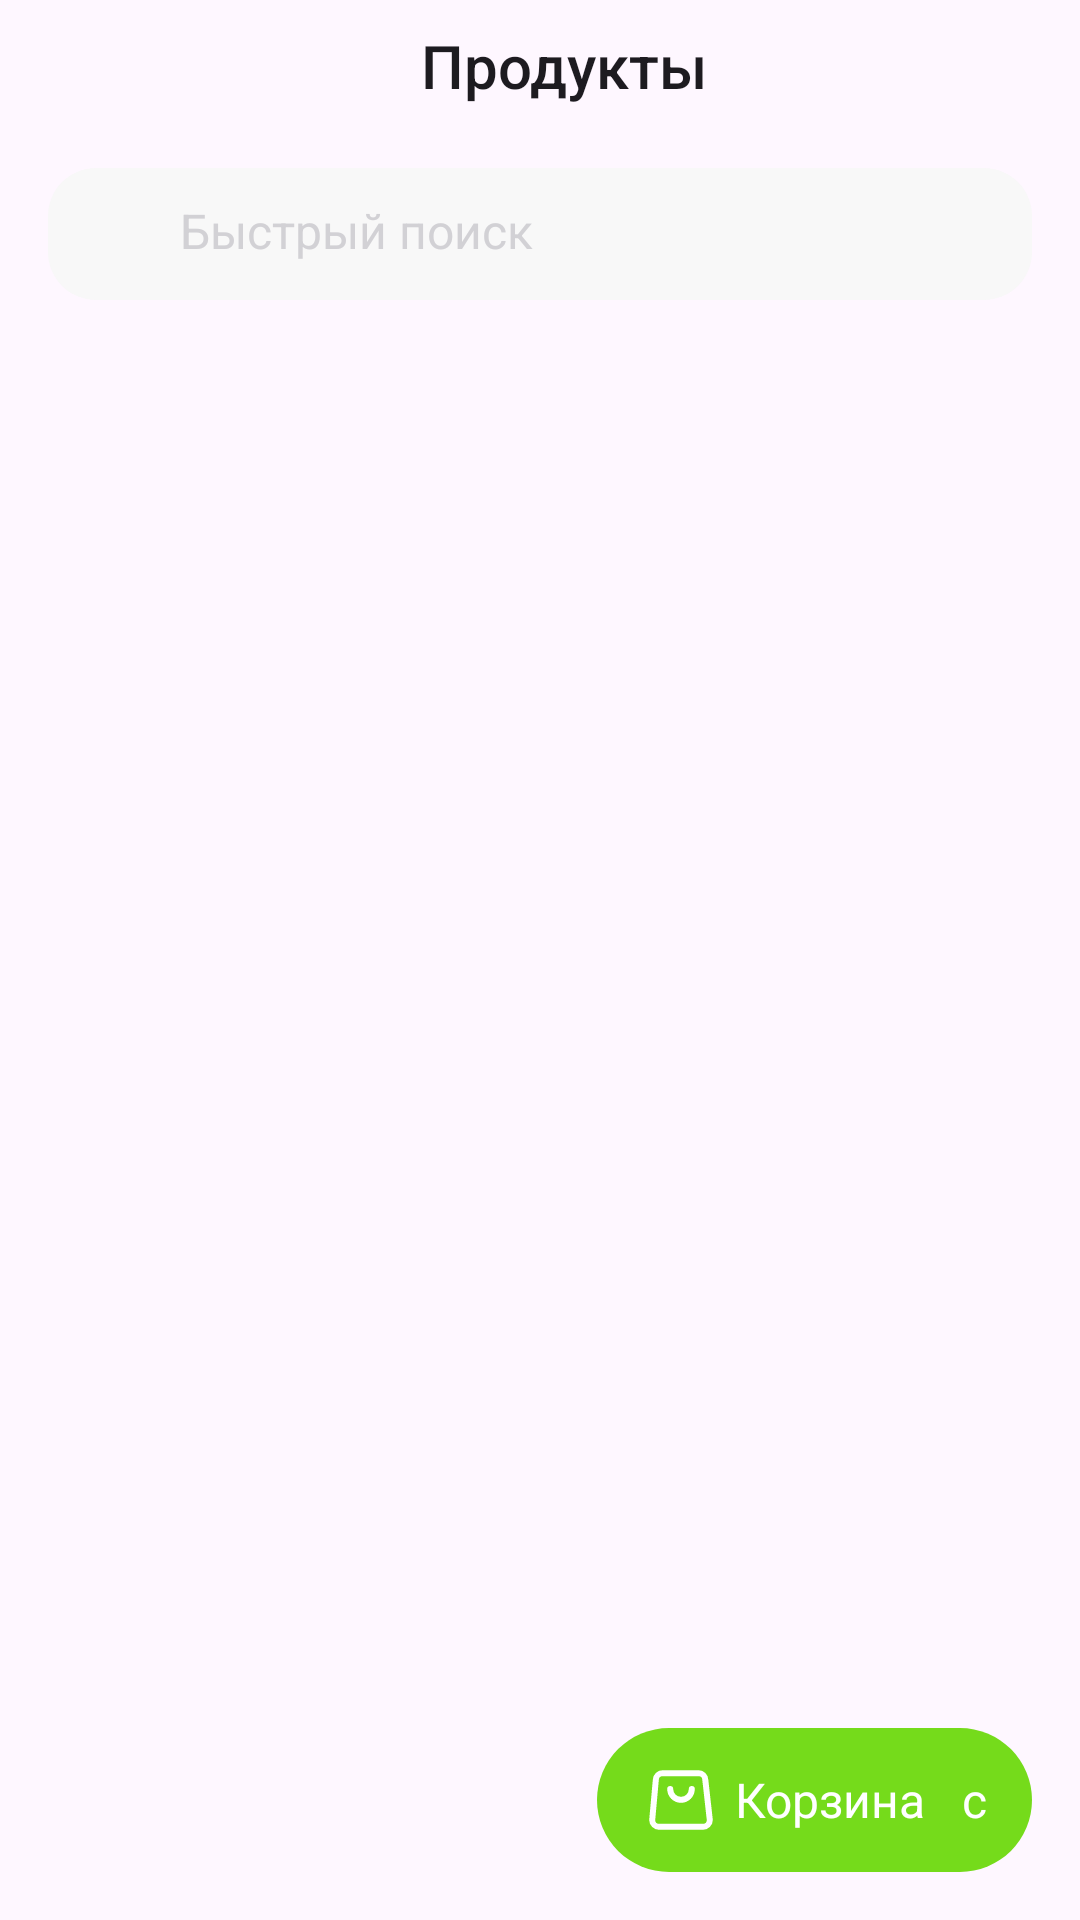

Named icons in this screenshot (1080x1920) and their centers, (x=x, y=y):
bag: (x=681, y=1800)
